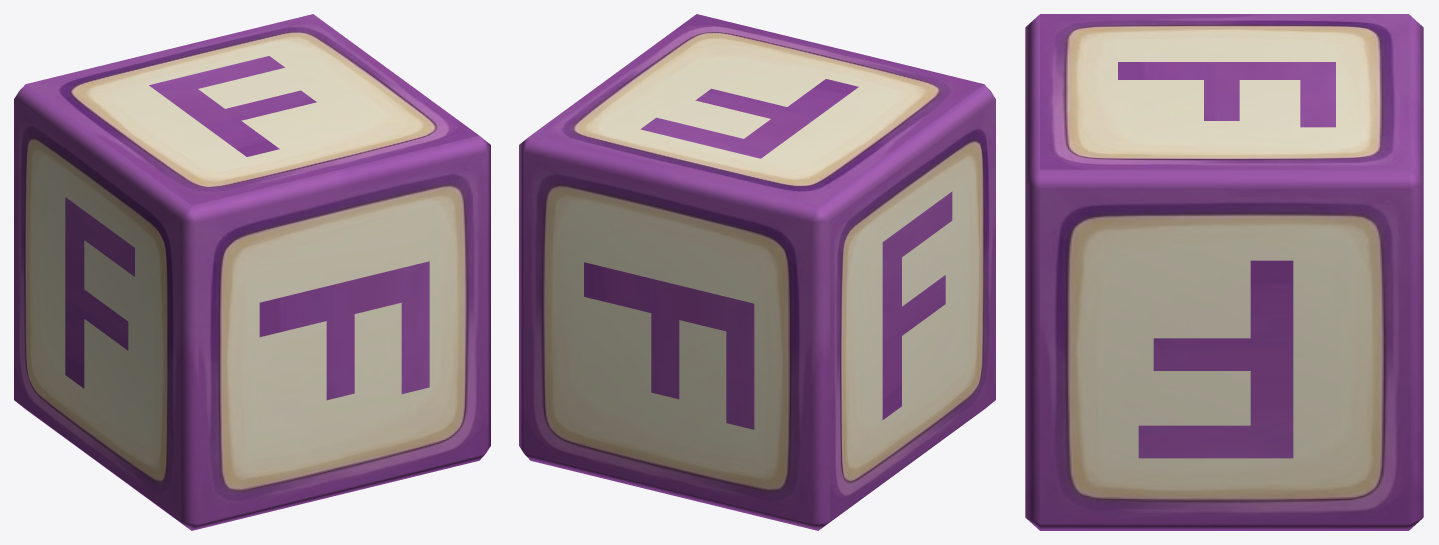
The model's file is CubeF.glb.
The picture shows the model from 3 angles, left to right: view 1: azimuth 30°, elevation 25°; view 2: azimuth 150°, elevation 25°; view 3: azimuth 270°, elevation 25°; orthographic projection. The views are drawn at different scales.
Visible parts, largest first — view 1: CubeF; view 2: CubeF; view 3: CubeF.
Part boxes in pixels (x1,y1,x2,y2): CubeF: (14, 14, 490, 530); CubeF: (519, 14, 995, 530); CubeF: (1025, 14, 1423, 530).
Size of what is drawn, in the model's own units: 0.513 by 0.513 by 0.513.
1 material, 1 textured.
